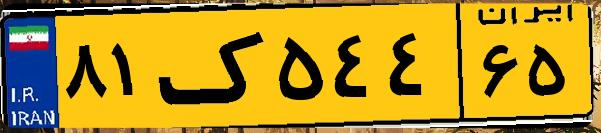1: (110, 28, 158, 98)
4: (385, 28, 445, 110), (330, 28, 385, 110)
5: (270, 28, 330, 110), (525, 38, 570, 115)
6: (475, 38, 525, 113)
8: (57, 26, 110, 100)
ک: (158, 12, 270, 120)
